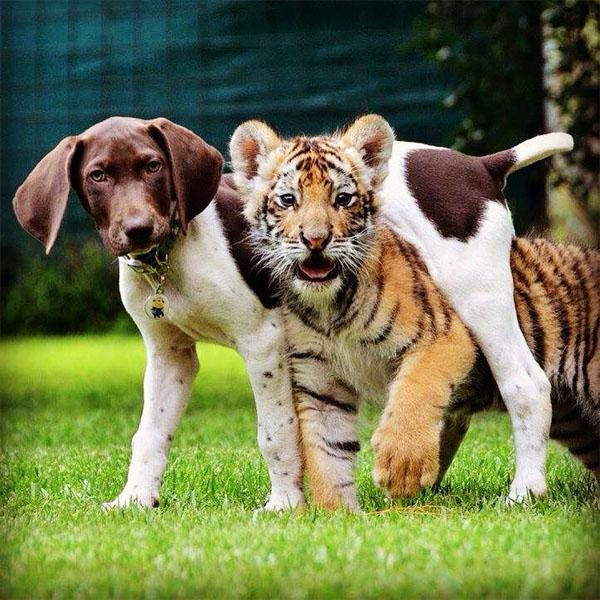dog: (12, 116, 573, 513)
tiger: (228, 117, 600, 514)
